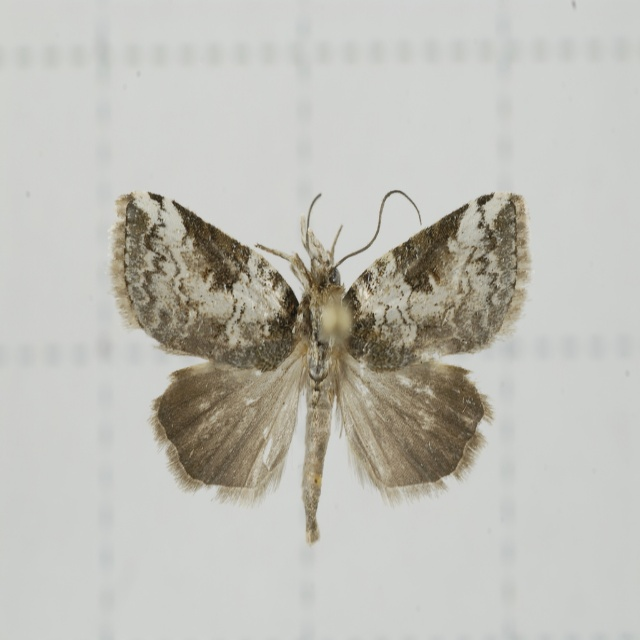Butterfly: (115, 175, 521, 546)
